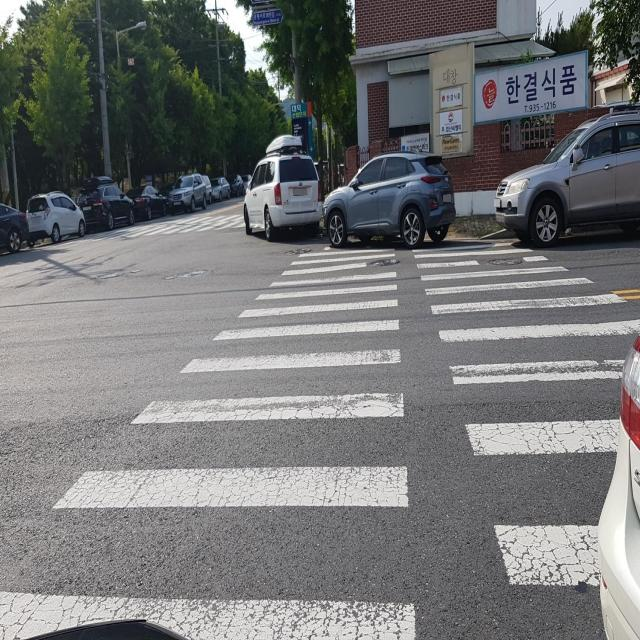횡단보도: (0, 234, 640, 640), (116, 212, 289, 230)
